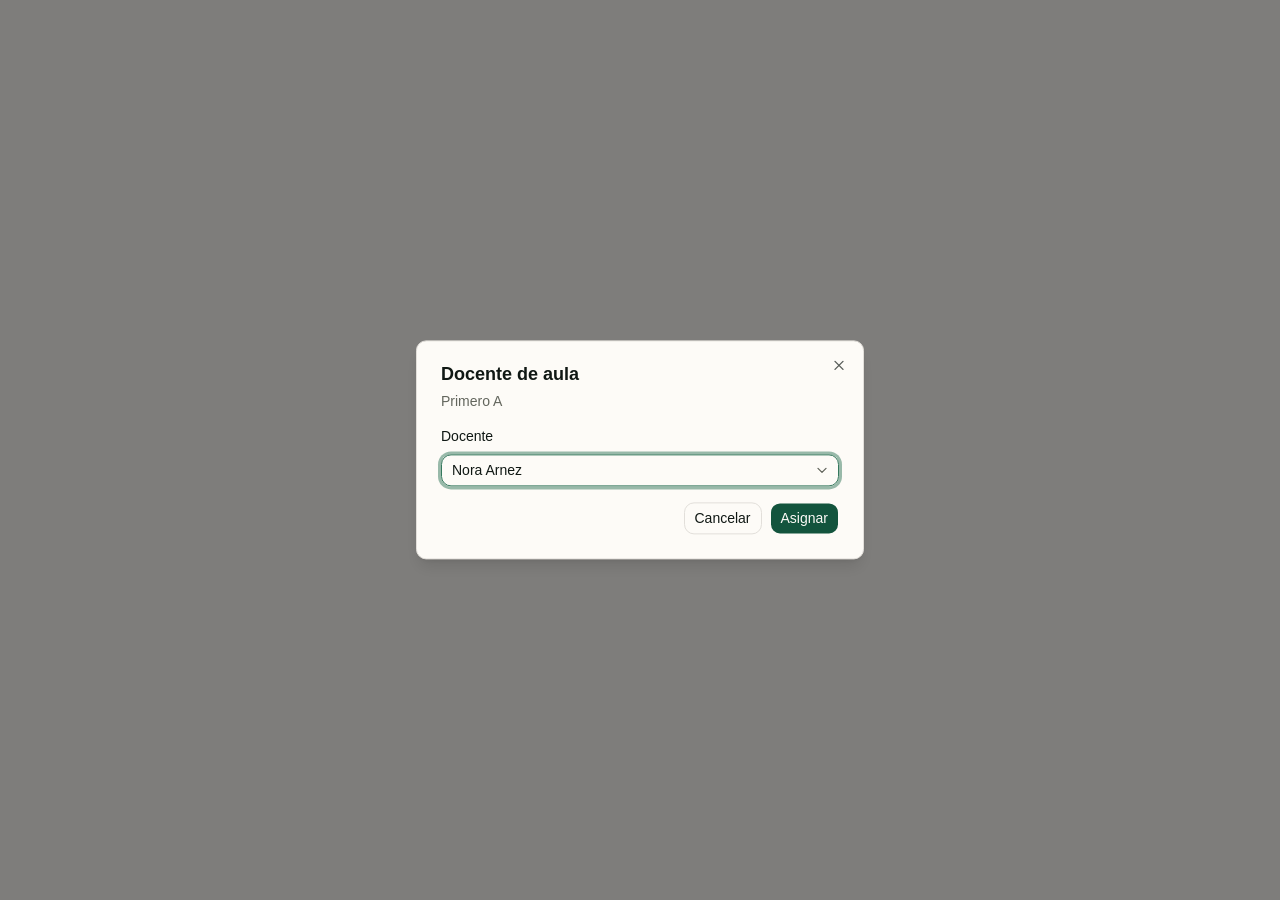
Test: SetHomeroomDialog › advierte y deshabilita Asignar al elegir un tercero mientras el docente actual sigue activo
Click the dropdown at (487, 471), box [441,455,839,487]
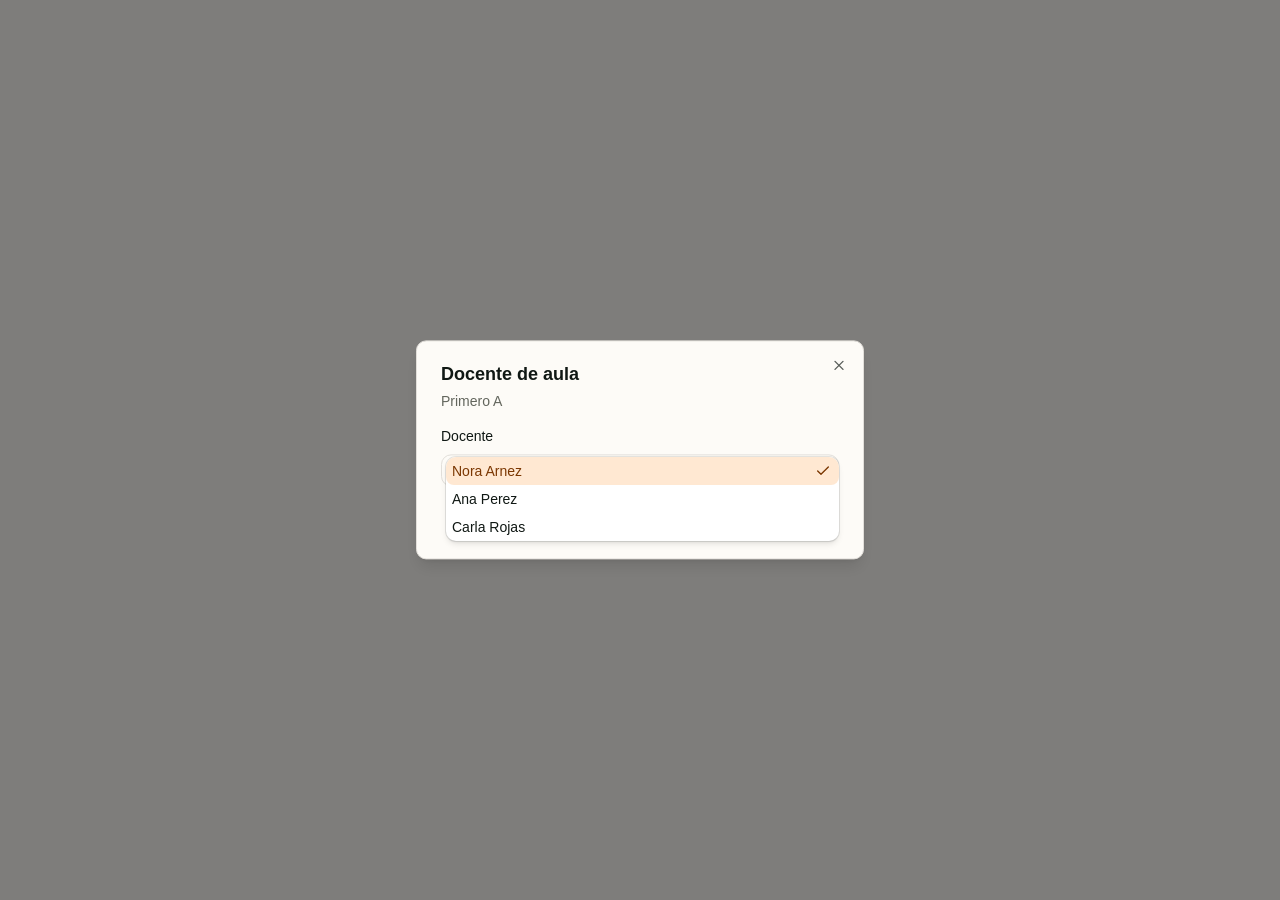
Click the option "Carla Rojas" at (489, 527), box [452,519,525,535]
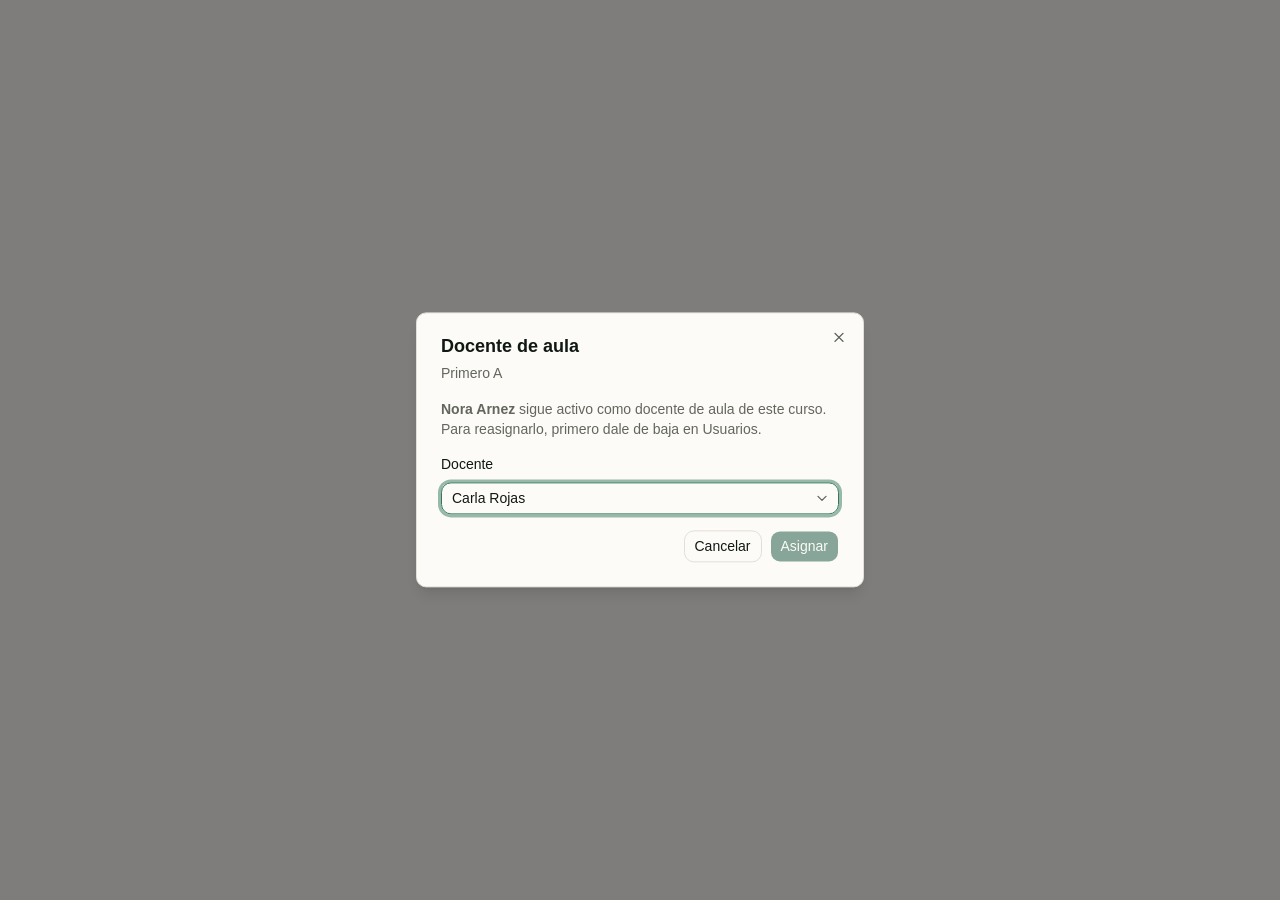
Check: the text "Nora Arnez" is shown, box [441,401,515,417]
Check: the button "Asignar" is disabled, box [770,531,839,563]
